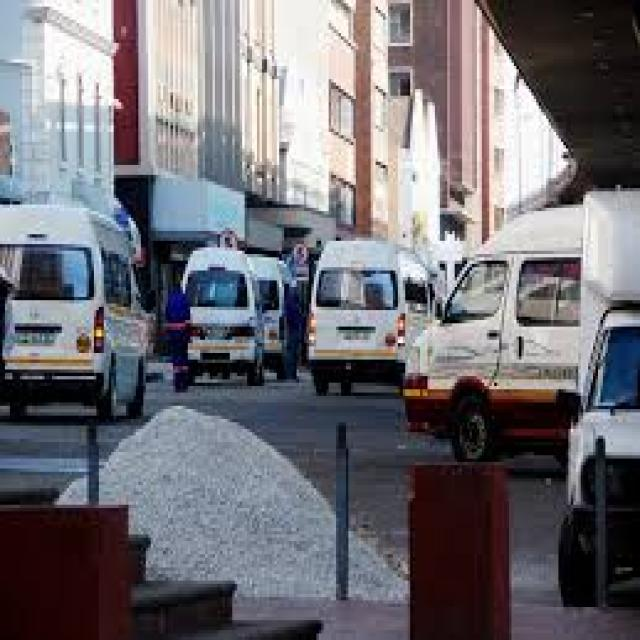MiniBus taxi: (2, 201, 126, 419), (306, 240, 406, 392)
